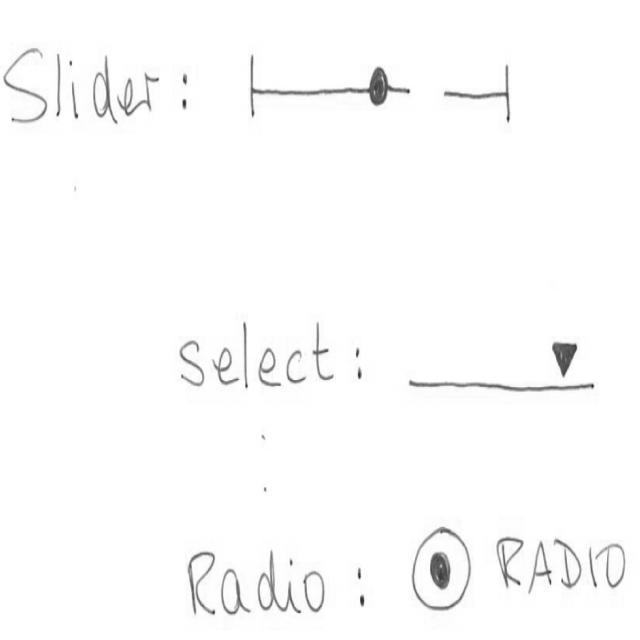radio: (409, 523, 630, 616)
select: (405, 322, 597, 398)
slider: (246, 48, 523, 130)
